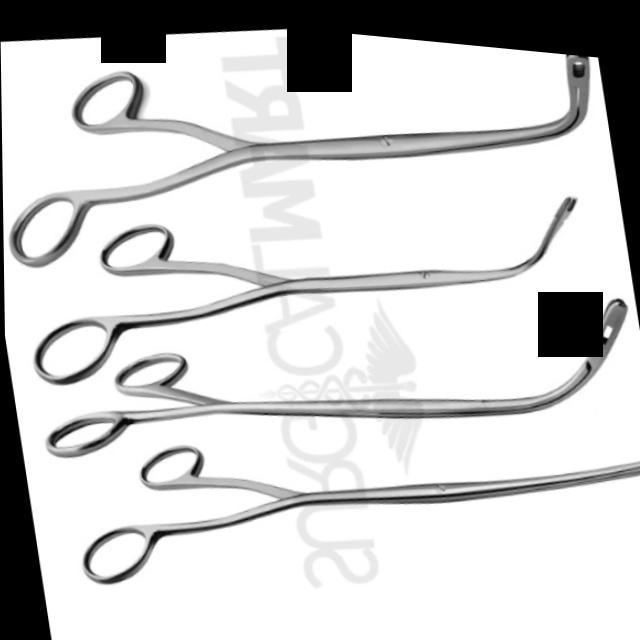Randall: (6, 115, 612, 428), (30, 264, 640, 504)
